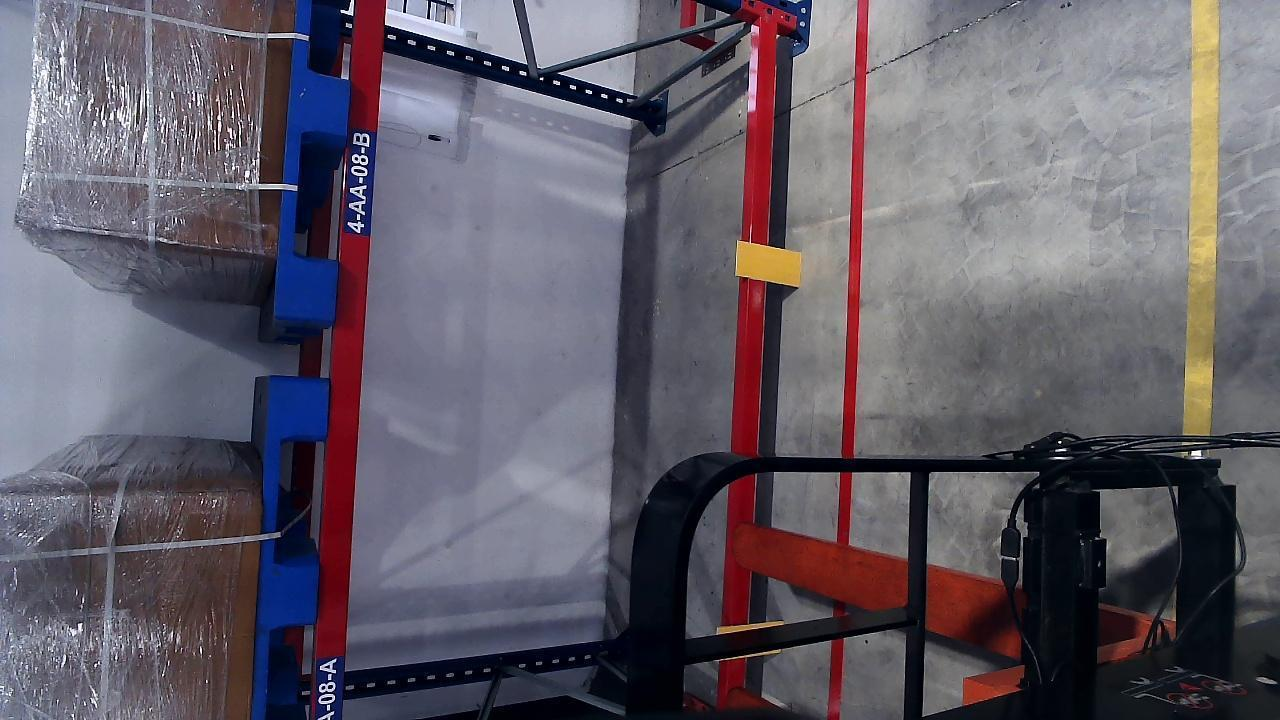red_line: (839, 10, 870, 509)
yellow_line: (1181, 0, 1221, 434)
